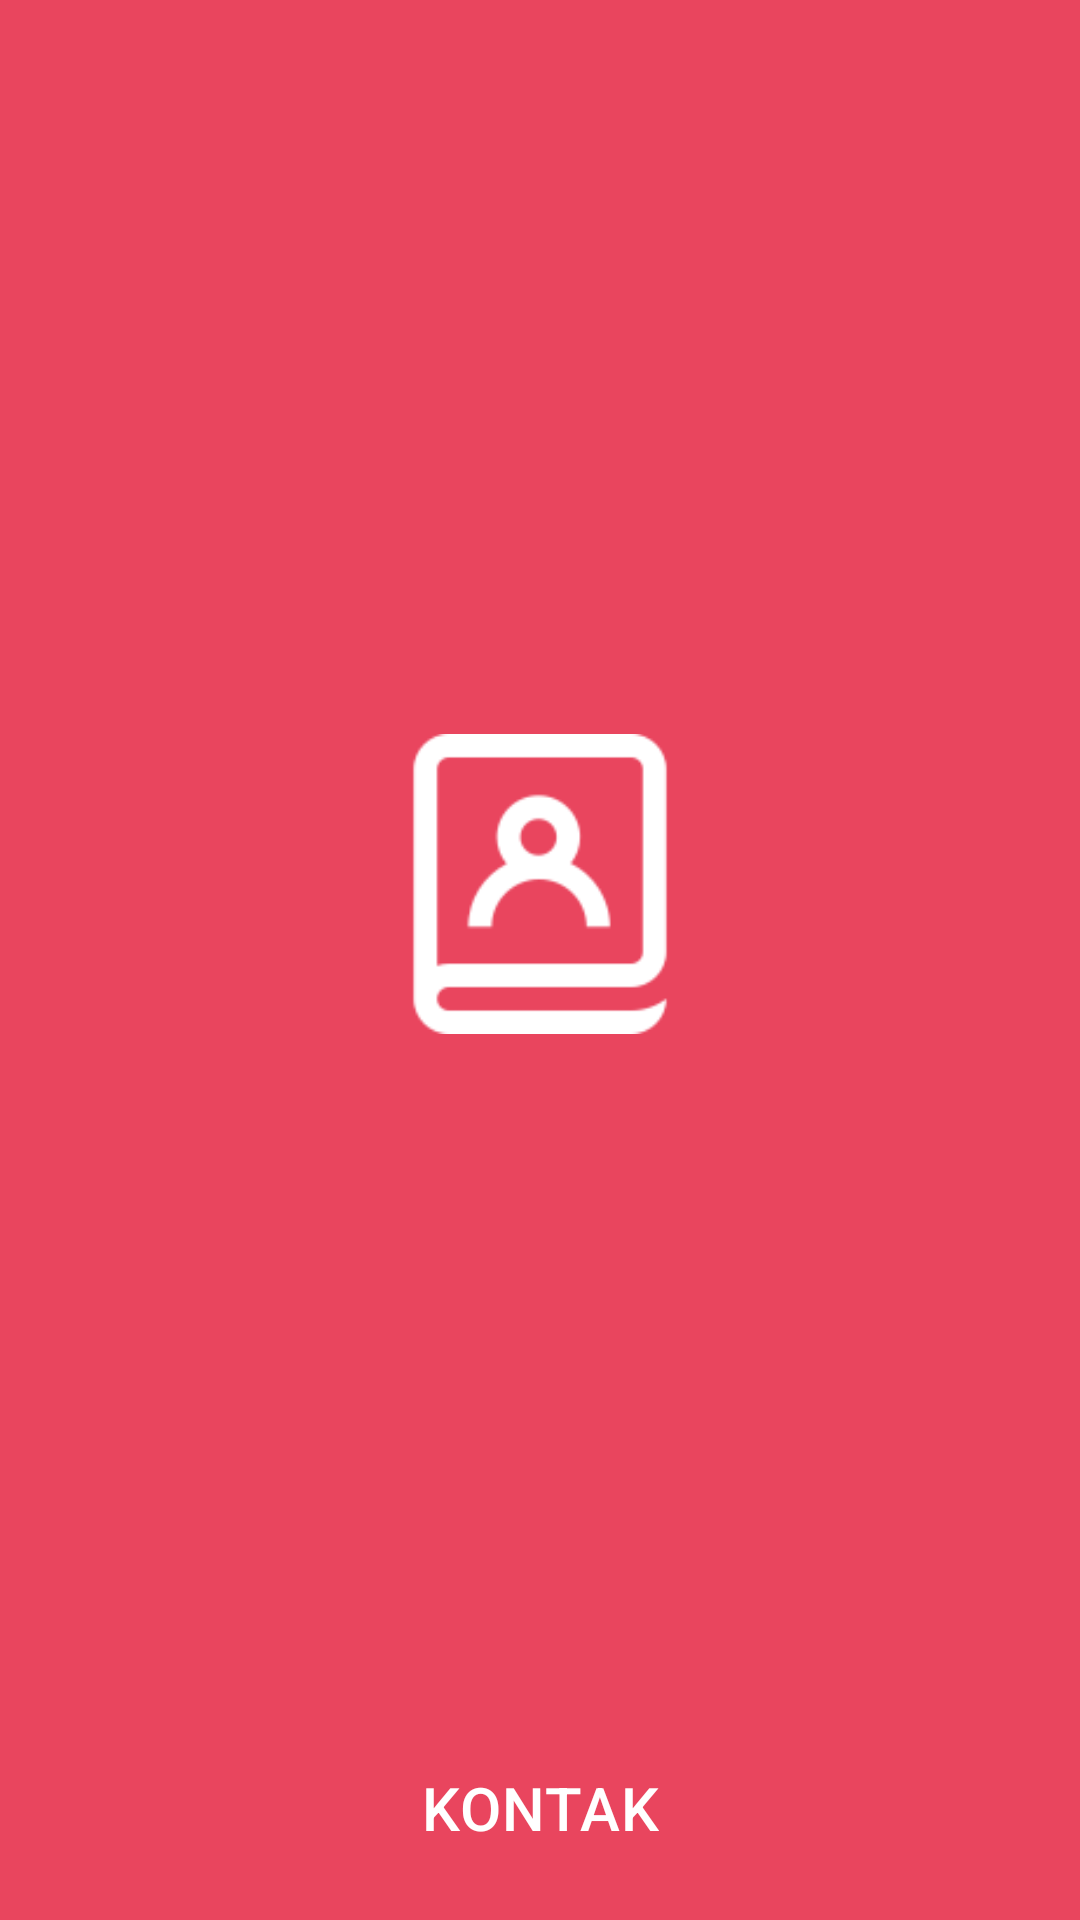

Screen size 1080px x 1920px. Icon name, then its center in pixels as point (x, y):
contacts: point (540, 884)
